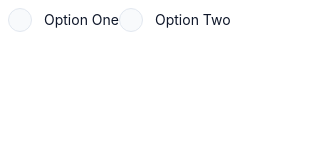
Test: Radio › allows only one option in the same group to be selected
The width and height of the screenshot is (320, 160).
Click the radio button labelled "Option One": (64, 20) 8,8 -> 119,32
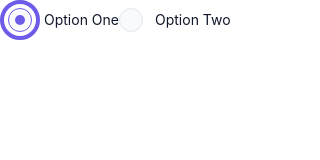
Expected: the radio button labelled "Option One" is checked, 8,8 -> 119,32
Click the radio button labelled "Option Two": (175, 20) 119,8 -> 231,32
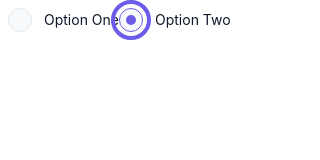
Expected: the radio button labelled "Option Two" is checked, 119,8 -> 231,32
Expected: the radio button labelled "Option One" is not checked, 8,8 -> 119,32
